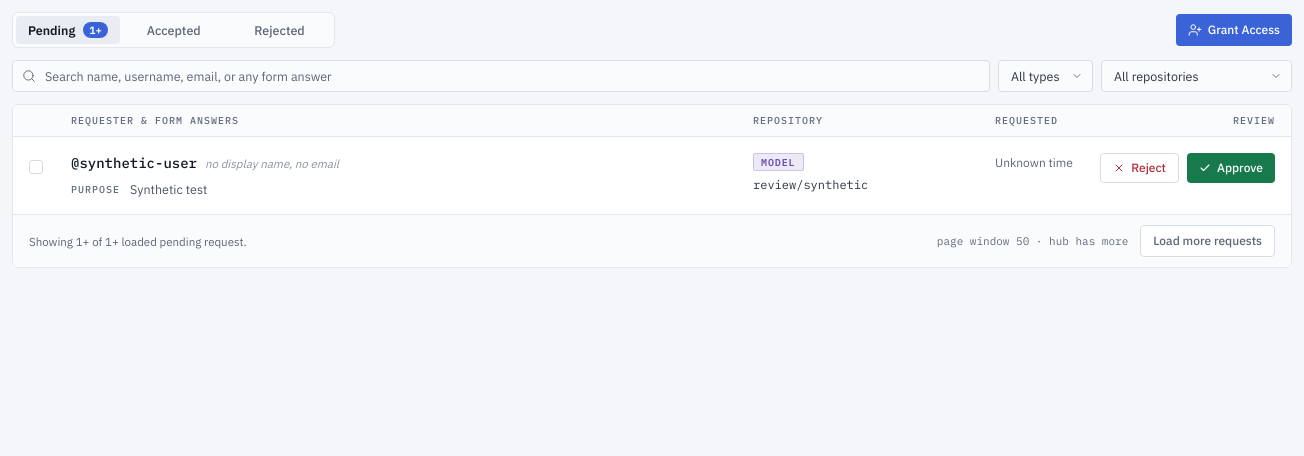
Scenario: real dashboard integration › does not turn a drained truncated window into inbox zero
Expected: the link "@synthetic-user" is shown, top-left (71, 153), bottom-right (197, 173)
Click the button "Approve". click: (1231, 168)
box: top-left (1187, 153), bottom-right (1275, 183)
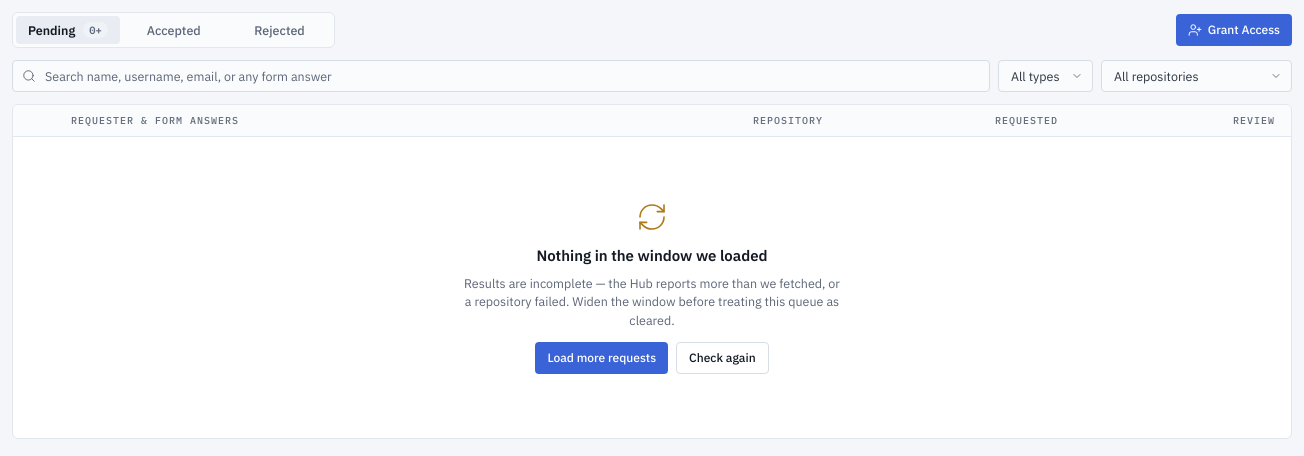
Expected: the button "Load more requests" is shown, top-left (535, 342), bottom-right (668, 374)
Expected: the tab "Pending 0+" is shown, top-left (16, 16), bottom-right (120, 44)
